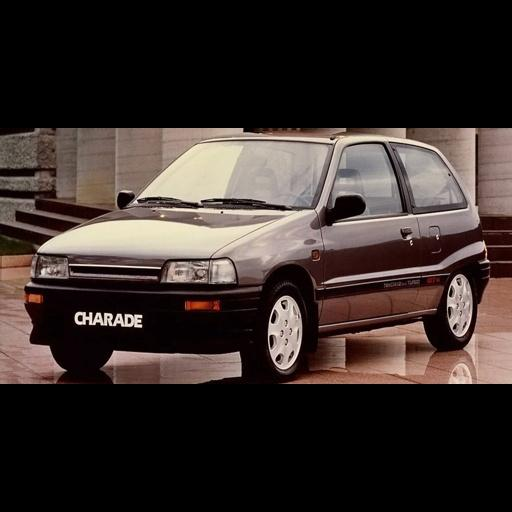hatchback: (25, 133, 489, 378)
